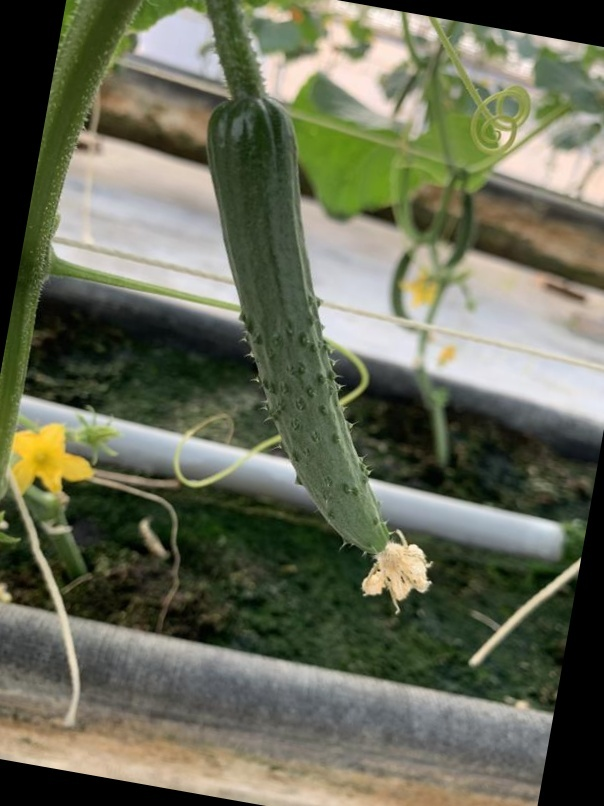growth: (143, 60, 482, 610)
